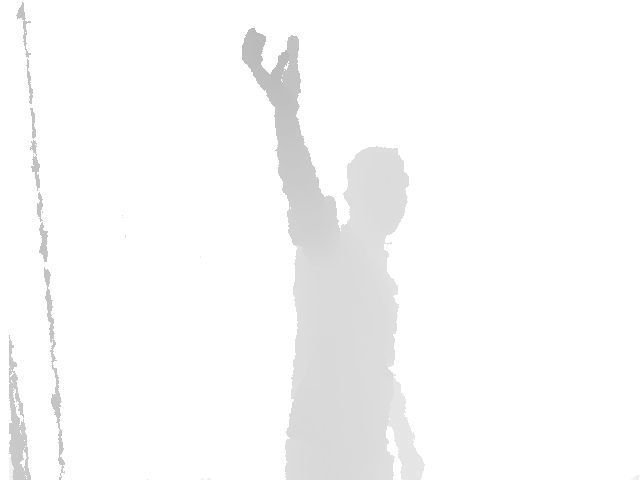hand: (241, 27, 303, 119)
hand_down: (394, 448, 426, 480)
head: (343, 146, 410, 236)
person: (241, 27, 427, 480)
